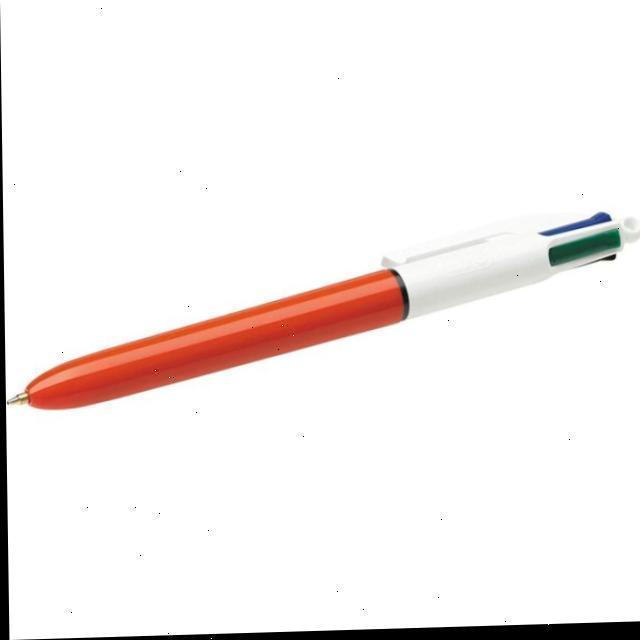pen: (4, 209, 640, 414)
